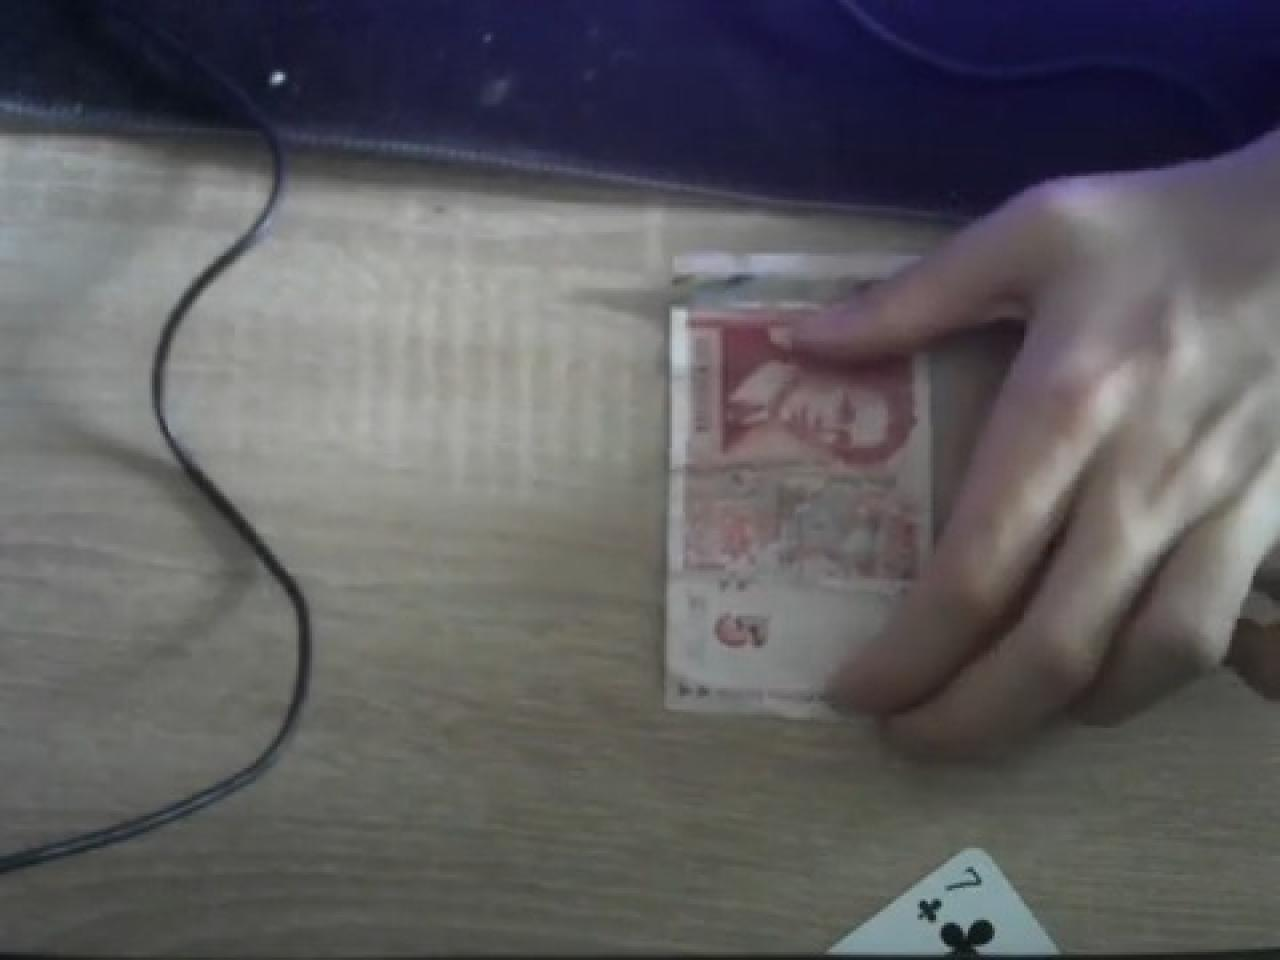5leva: (659, 277, 944, 717)
